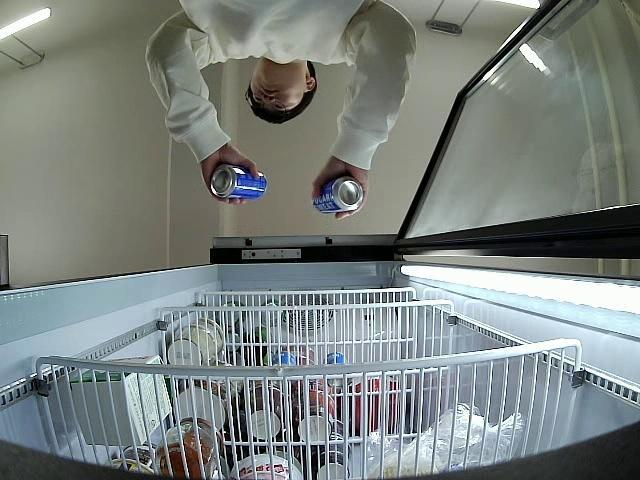13_pocariSweat: (307, 178, 364, 215), (210, 163, 267, 200)
